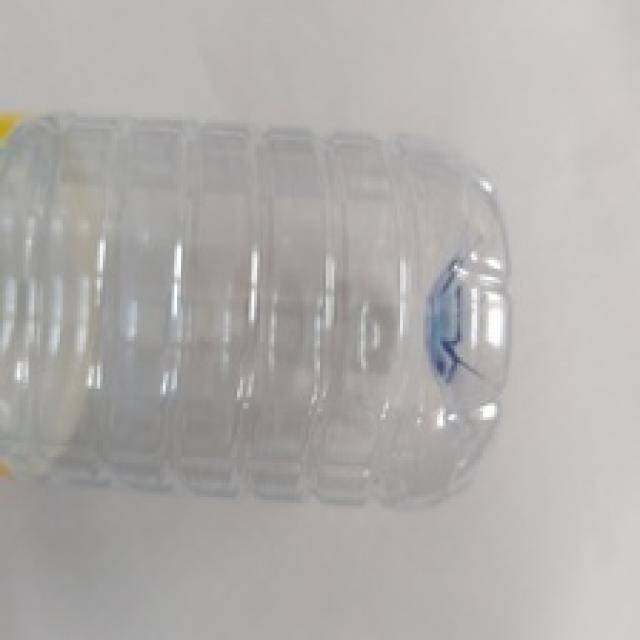Plastic: (0, 112, 511, 504)
